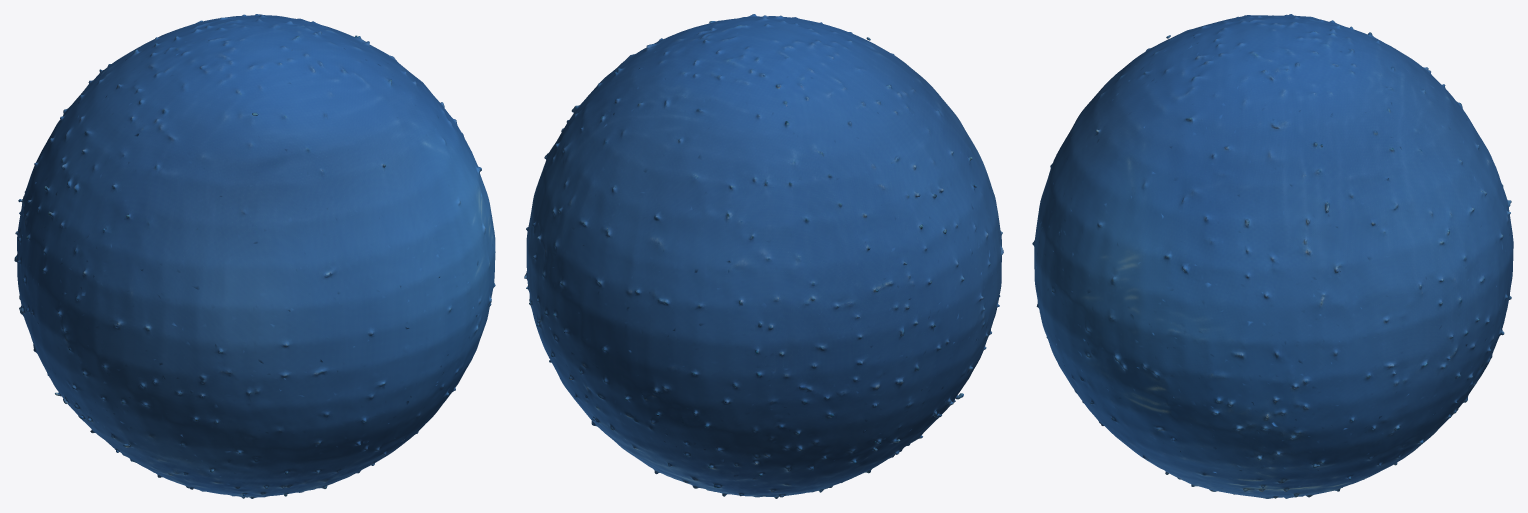
File: neptuno.glb
The picture shows the model from 3 angles, left to right: view 1: azimuth 30°, elevation 25°; view 2: azimuth 150°, elevation 25°; view 3: azimuth 270°, elevation 25°; orthographic projection.
Parts seen in each view (by area): view 1: world; view 2: world; view 3: world.
Boxes of the visible parts, bbox=[...] form: world: bbox=[14, 14, 495, 498]; world: bbox=[524, 14, 1003, 498]; world: bbox=[1032, 14, 1513, 498].
Bounding box in the file's own units: 0.9959 × 1 × 0.9906.
Materials: 1 (1 with a texture image).
